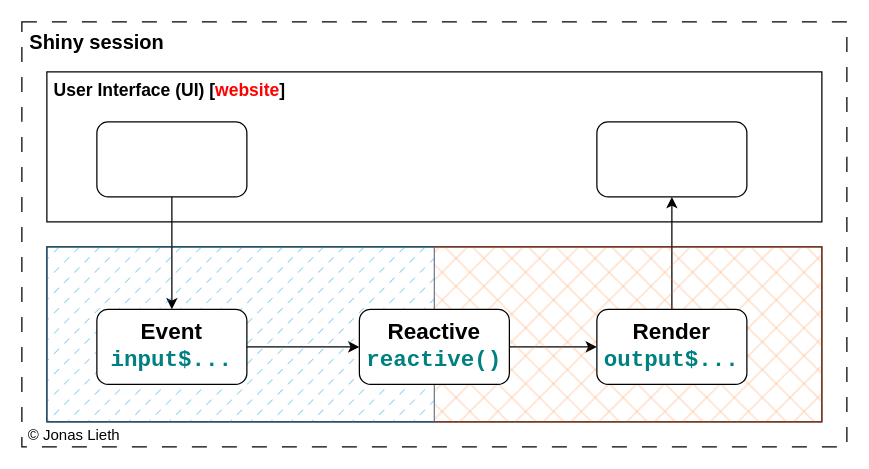
The diagram is 869 pixels wide and 469 high, and some of its shapes have lost their labels. The shapes that lost their labels are listed below. From the top down, each one's box as (x1, y1, x2, y2) in pixels, then its label:
(96, 121, 247, 197): Input
(596, 121, 747, 197): Output
(46, 246, 822, 422): Server function
